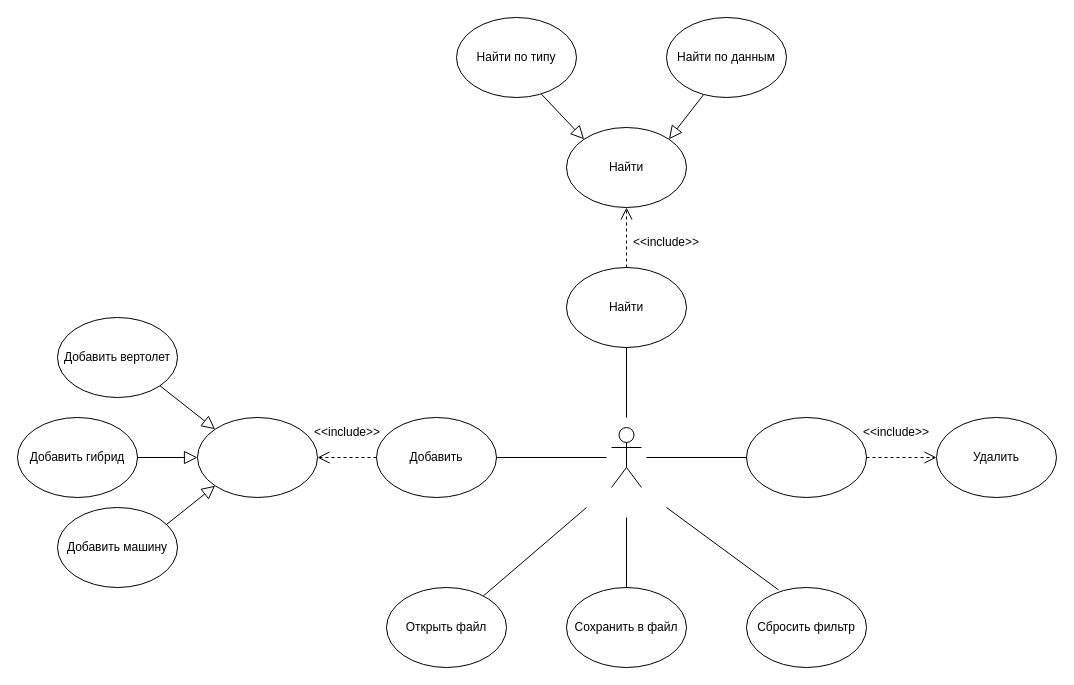
The diagram is 1074 pixels wide and 685 high, and some of its shapes have lost their labels. The shapes that lost their labels are listed below. From the top down, each one's centre as x and y in pixels, then its label:
[257,457]: Заполнить поля
[626,457]: Пользователь
[806,457]: Выбрать строки
